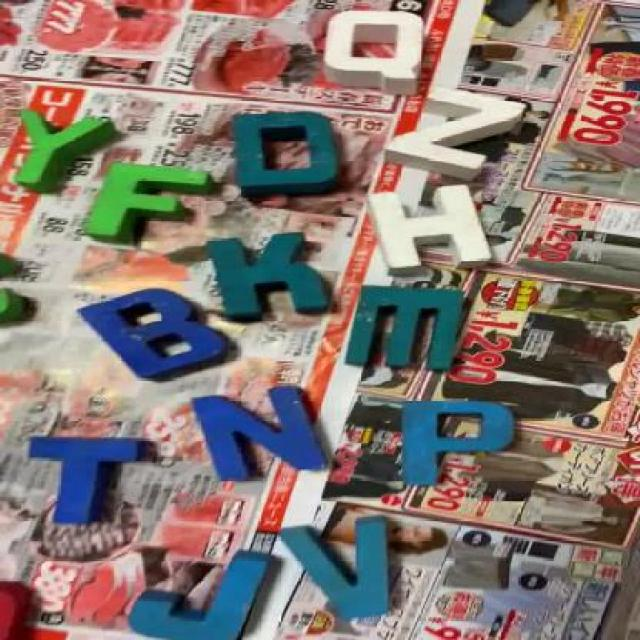B: (83, 288, 226, 377)
D: (228, 114, 350, 197)
F: (86, 163, 208, 242)
H: (362, 183, 490, 274)
J: (139, 550, 270, 633)
K: (216, 230, 330, 318)
M: (342, 290, 481, 372)
N: (189, 386, 320, 482)
P: (396, 402, 516, 482)
Q: (321, 11, 422, 89)
T: (24, 433, 158, 525)
V: (278, 513, 402, 616)
Y: (20, 105, 115, 188)
Z: (382, 88, 526, 174)
